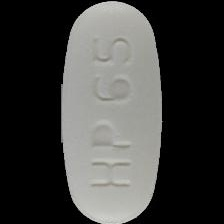43063-620: (0, 0, 224, 224)
